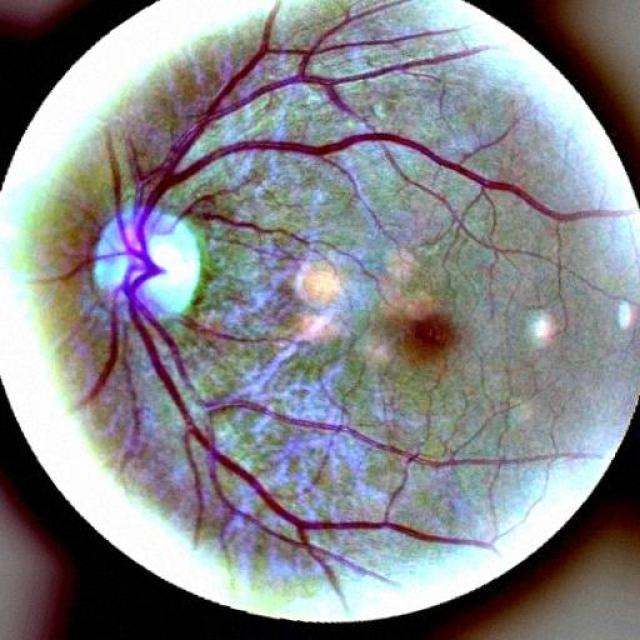Macula: (386, 290, 470, 381)
Nerves: (25, 27, 567, 571)
Optic Disk: (80, 190, 222, 331)
